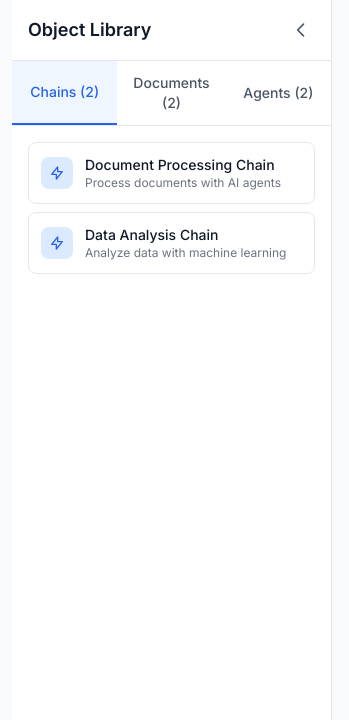
LeftSidebar › Section Navigation › switches to agents section when clicked
Click the button "Agents (2)". click: point(278, 93)
box: [226,61,331,125]
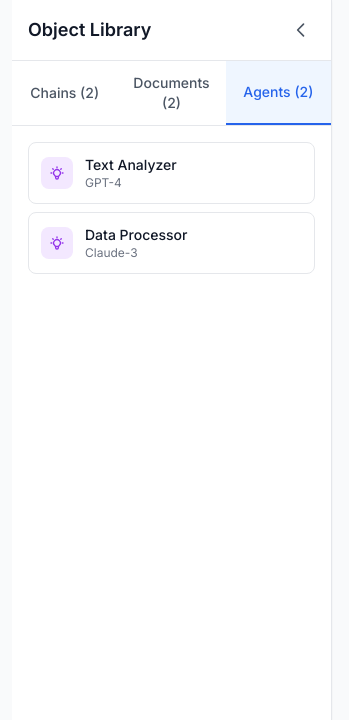
Check: the heading "Text Analyzer" is shown, box [85,156,177,173]
Check: the heading "Data Processor" is shown, box [85,226,187,243]
Check: the heading "Document Processing Chain" is gone
